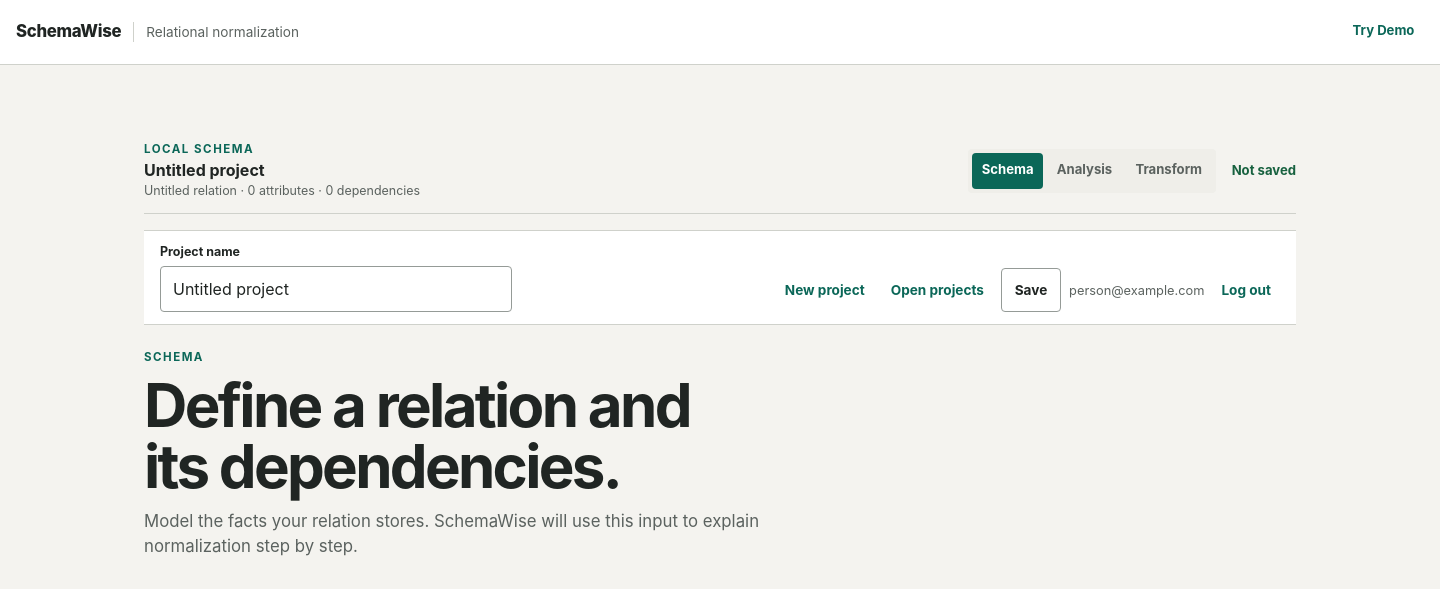
project persistence UX › shows a non-overwriting OCC conflict and reloads the server version
Expected: the text "person@example.com" is shown, [1069,281,1204,300]
Click the button "Open projects" at (937, 290), box [882,268,993,312]
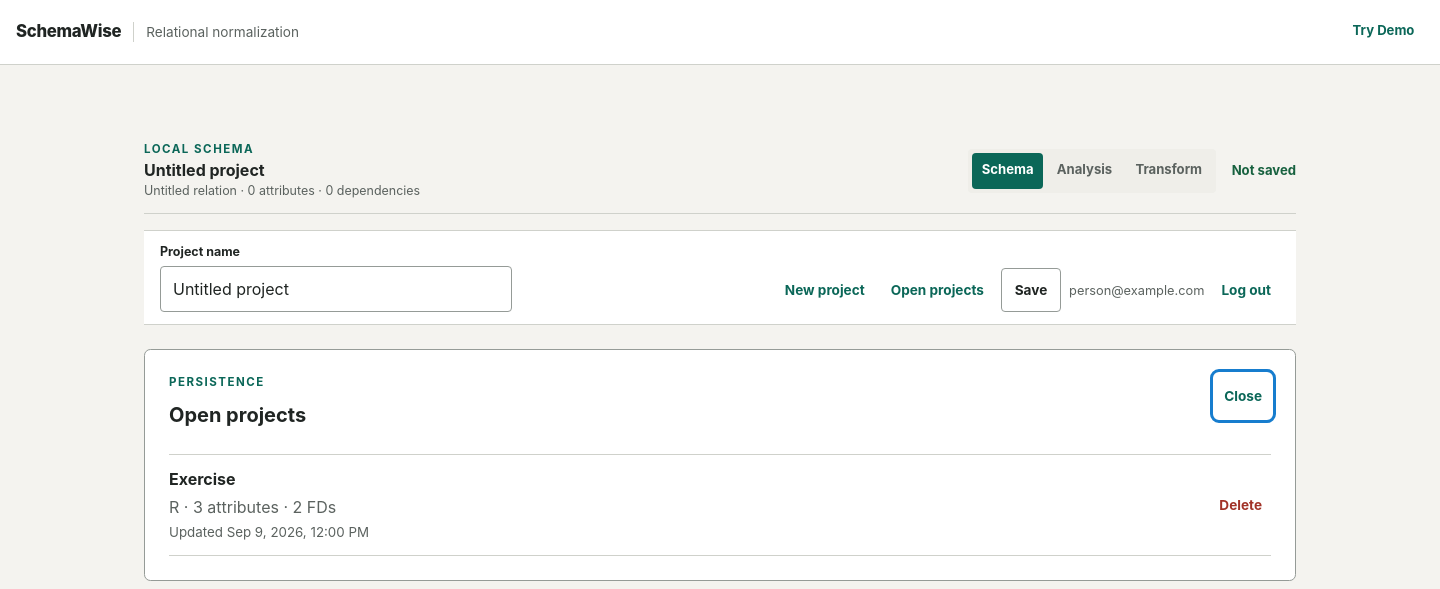
Expected: the heading "Open projects" is shown, [169,400,306,430]
Click the button named "ExerciseR · 3 attributes" at (202, 479), box [169,455,1198,555]
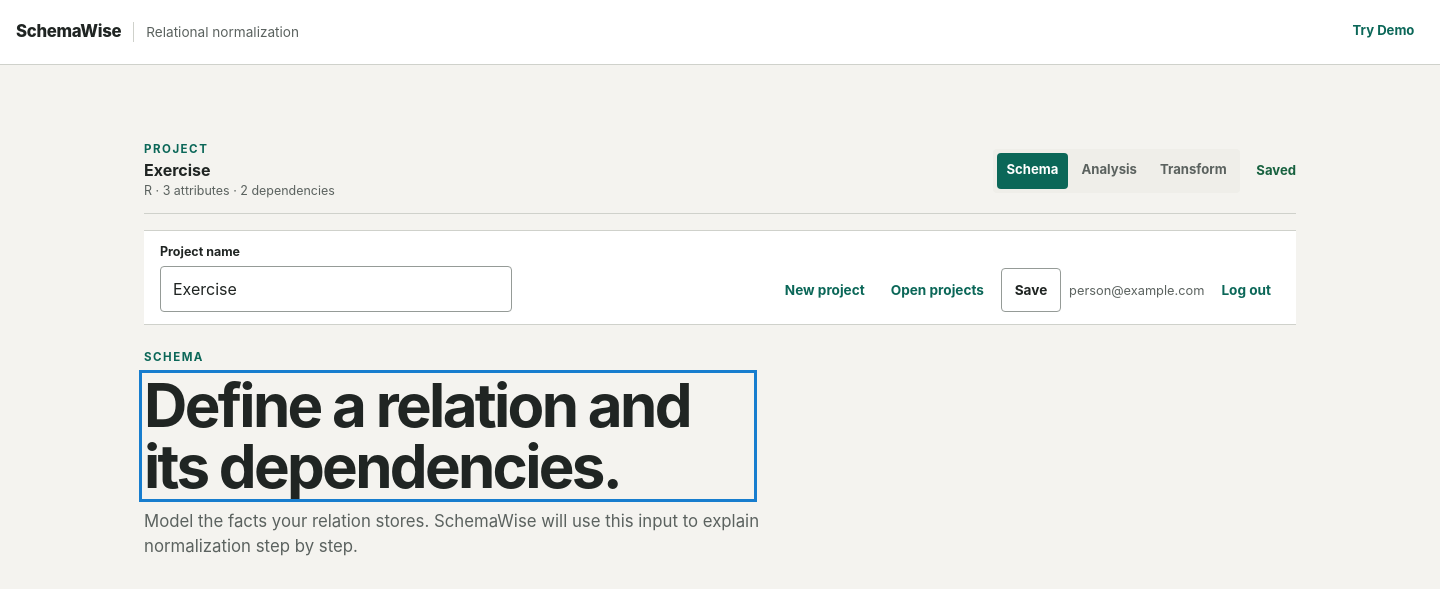
Expected: the field showing "Exercise" is shown
Replace the text in the field labelled "Project name" with "Local edit" at (336, 289), box [160,266,512,312]
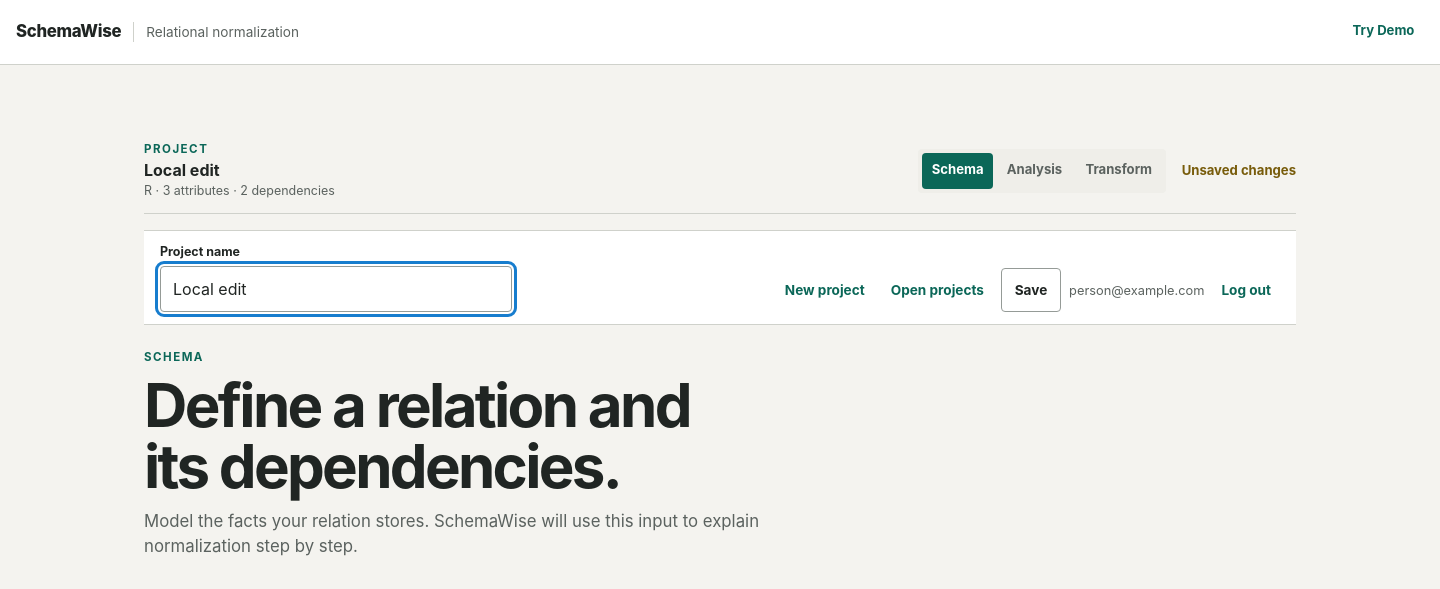
Click the button "Save" at (1031, 290), box [1001,268,1061,312]
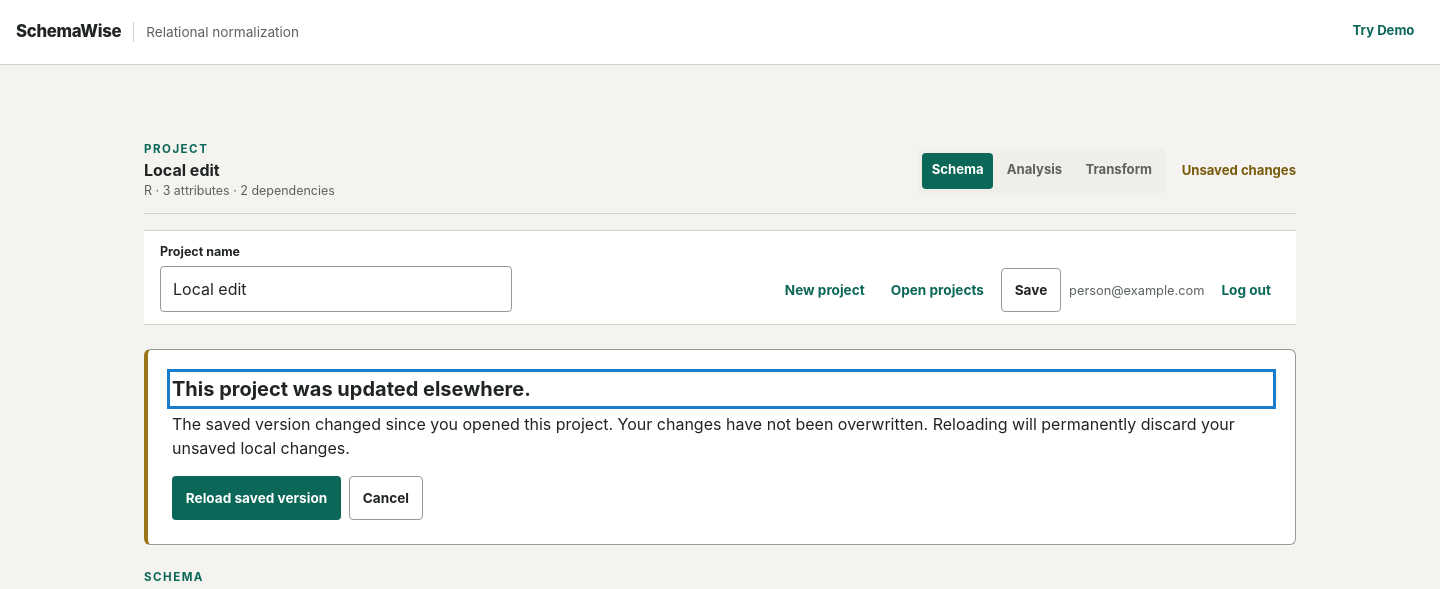
Expected: the heading "This project was updated elsewhere." is shown, [172,378,531,402]
Click the button "Reload saved version" at (256, 498), box [172,476,341,520]
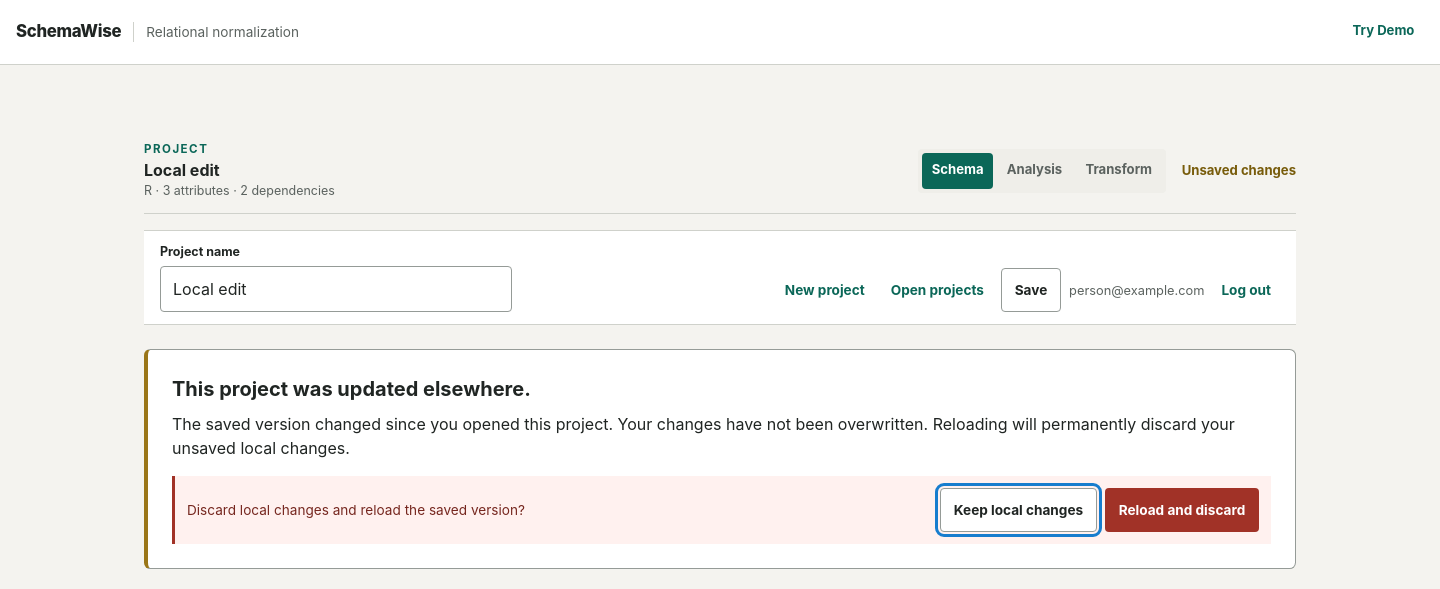
Expected: the text "Discard local changes and reload the saved version?" is shown, [187,500,525,521]
Click the button "Reload and discard" at (1182, 510), box [1105,488,1259,532]
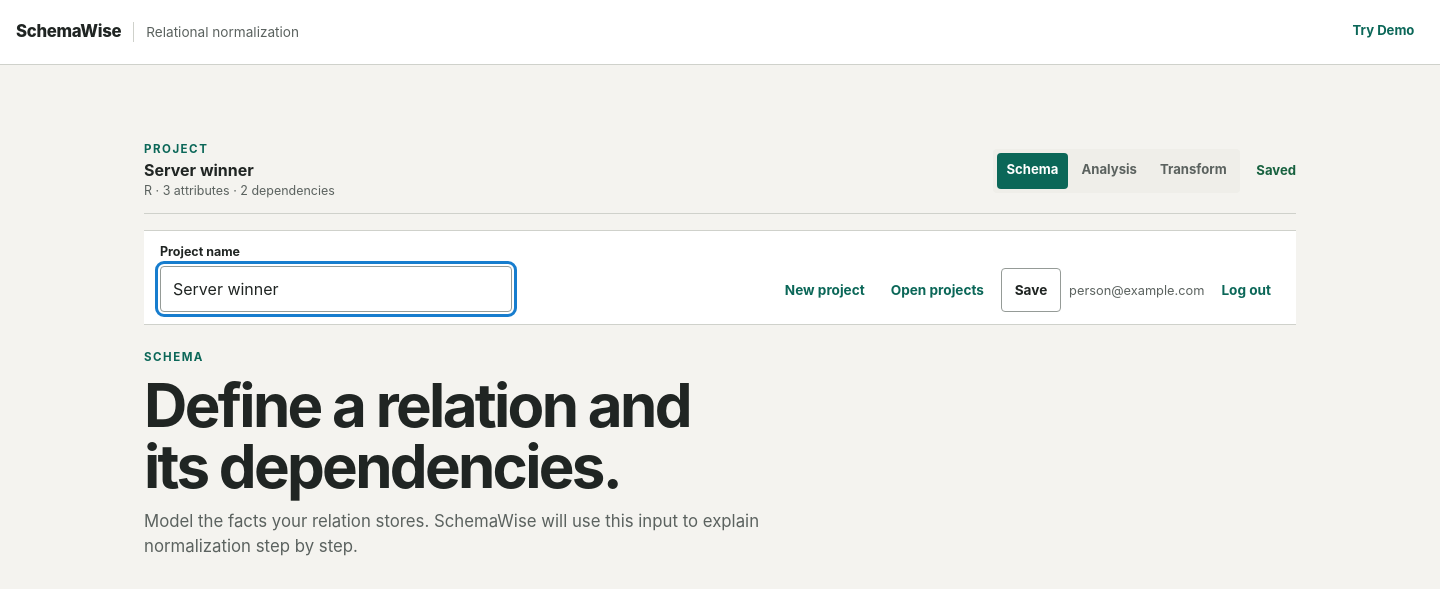
Expected: the text "Saved" is shown, [1256,161,1296,181]
Expected: the field showing "Server winner" is shown, [160,266,512,312]
